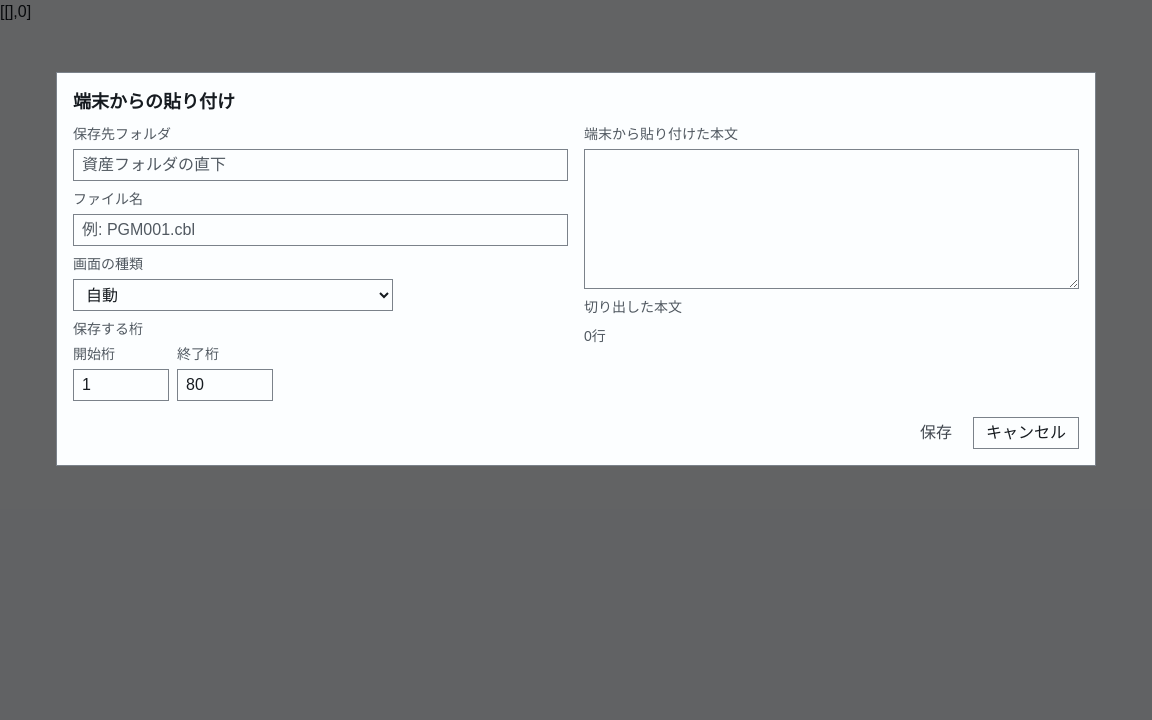
Test case: ImportDialog › saving › takes the confirmation away when the name is edited after it was raised
Type "       IDENTIFICATION DIVISION." into the text box with test id "import-paste" at {"x": 832, "y": 219}, box [584,149,1079,289]
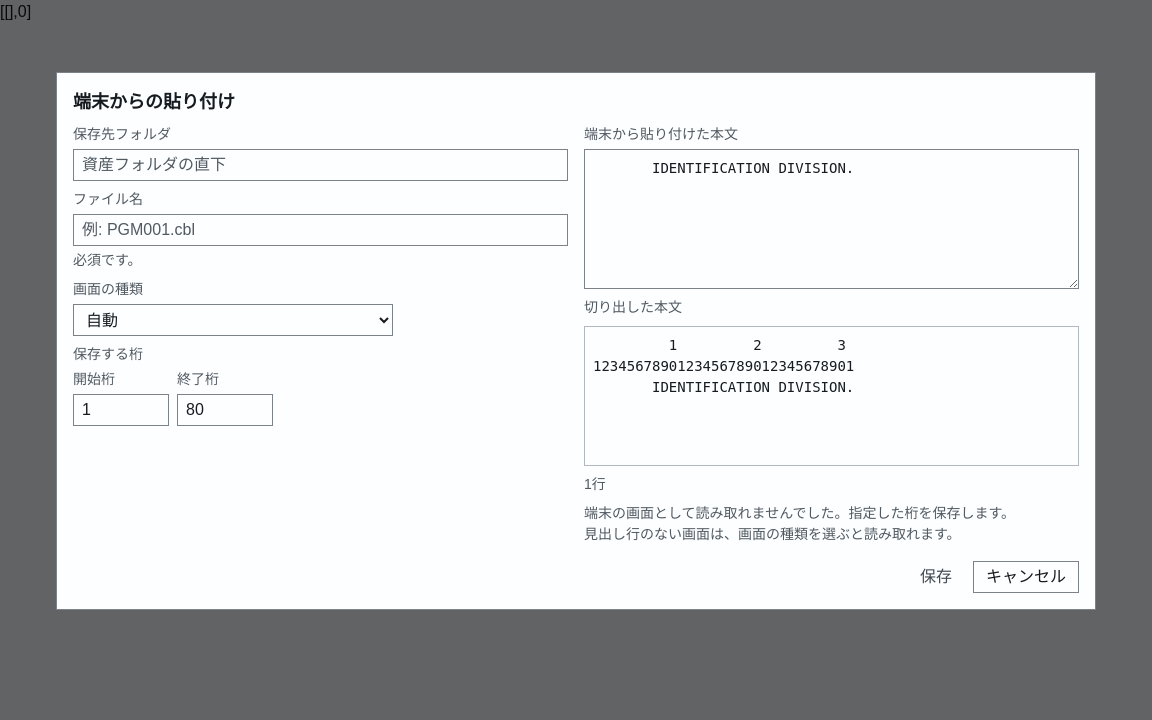
Type "A.cbl" into the field with test id "import-filename" at {"x": 320, "y": 230}, box [73,214,568,246]
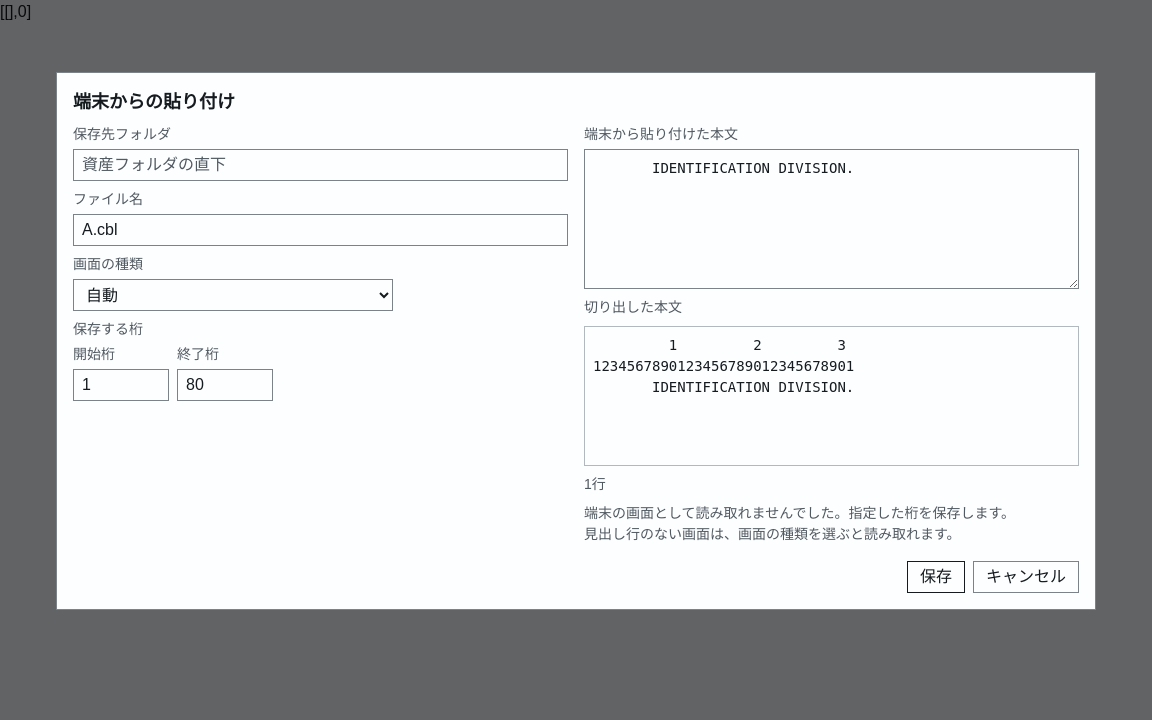
Click the button with test id "import-save" at {"x": 936, "y": 577}, box [907,561,965,593]
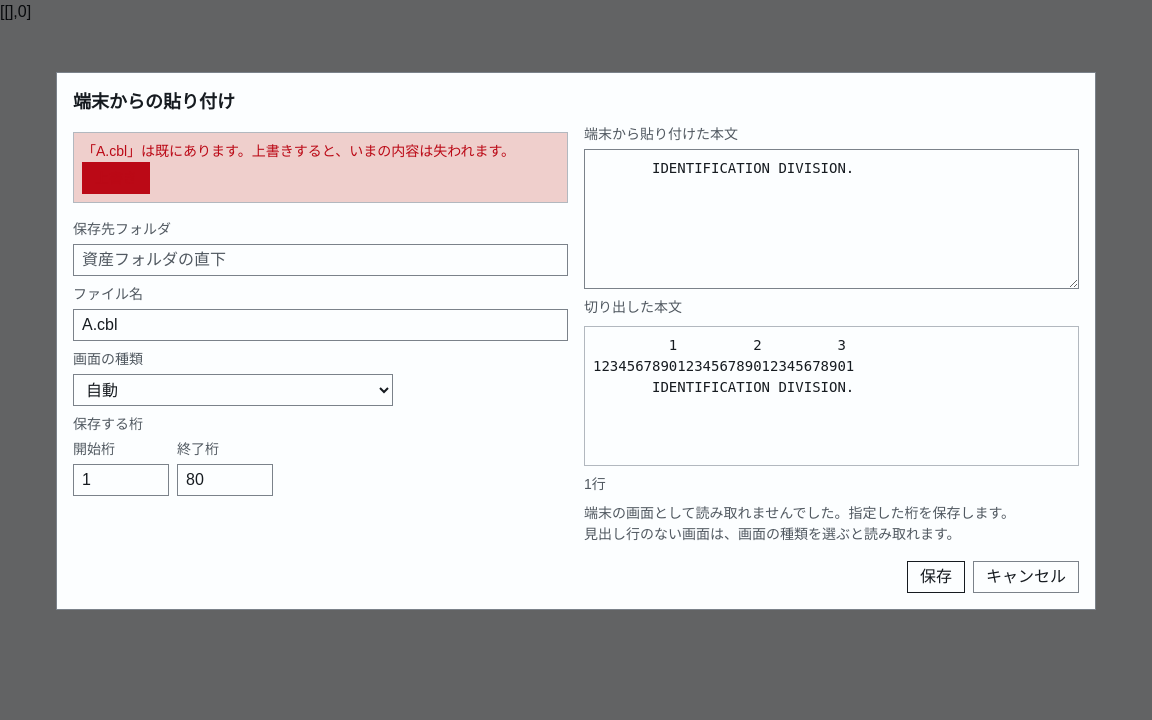
Now the element with test id "import-confirm" is shown, box [73,132,568,203]
Replace the text in the field with test id "import-filename" with "B.cbl" at {"x": 320, "y": 325}, box [73,309,568,341]
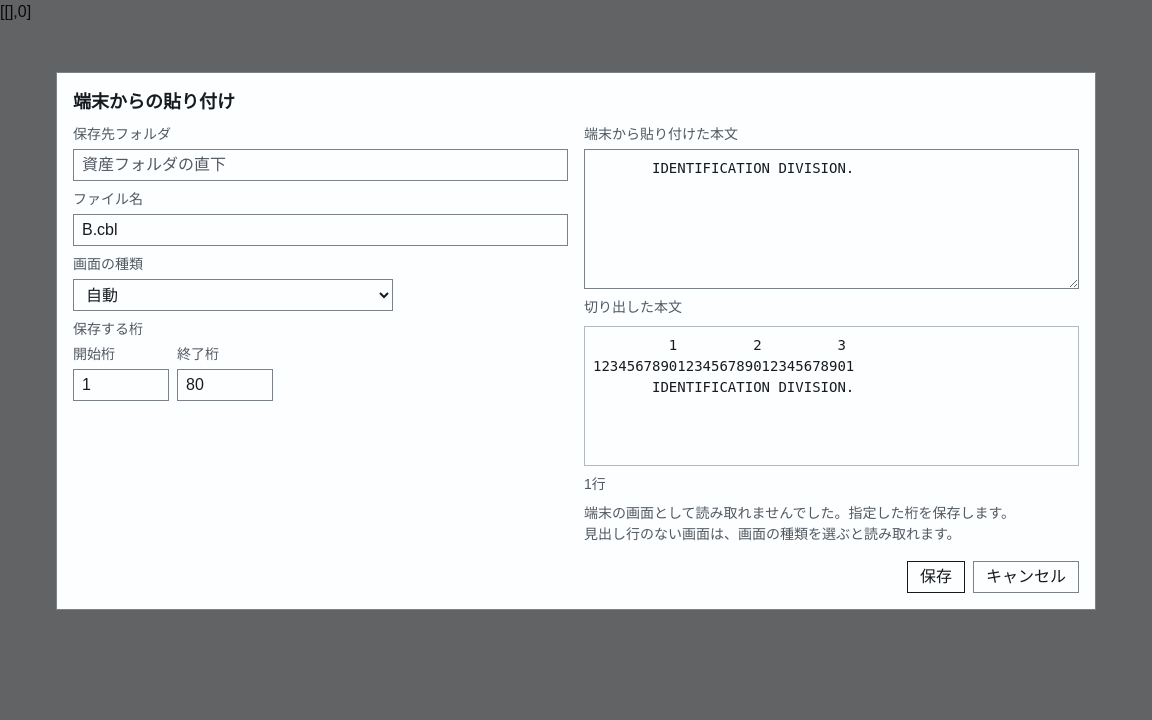
Now the button with test id "import-save" is enabled, box [907,561,965,593]
Now the element with test id "import-confirm" is gone
Now the button with test id "import-overwrite" is gone
